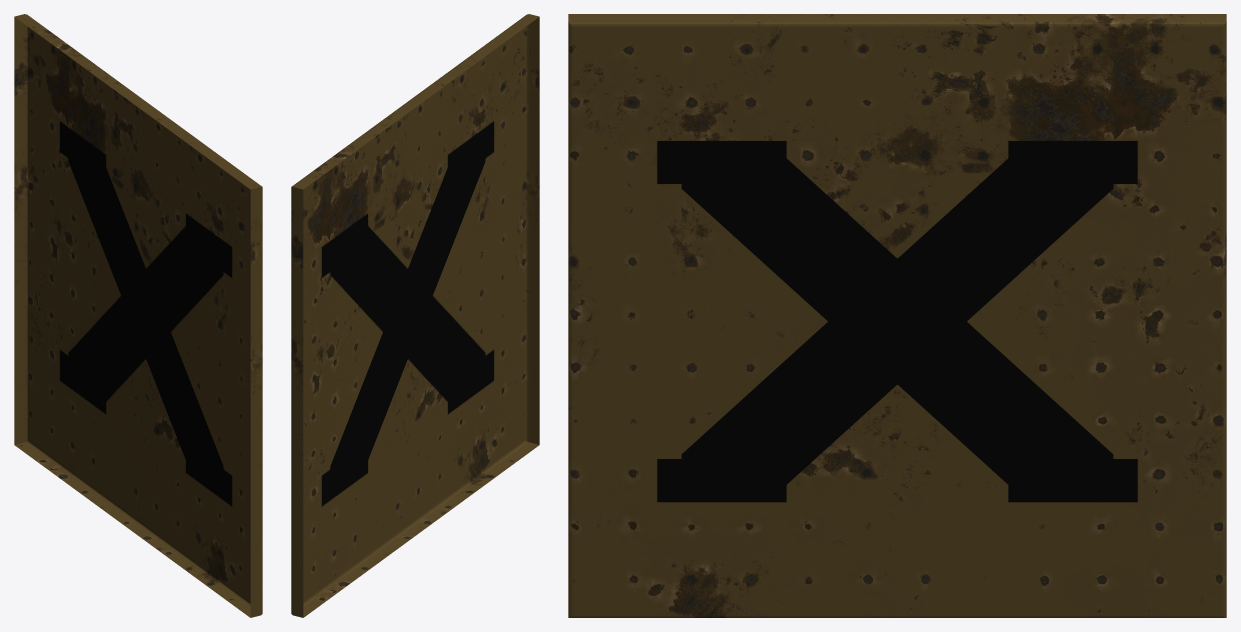
The model's file is DoorInsetPanel.fbx.
3 views of the same model, side by side, from view 1: azimuth 30°, elevation 25°; view 2: azimuth 150°, elevation 25°; view 3: azimuth 270°, elevation 25° (orthographic). The views are drawn at different scales.
Parts seen in each view (by area): view 1: DoorInsetPanel; view 2: DoorInsetPanel; view 3: DoorInsetPanel.
Part boxes in pixels (x1,y1,x2,y2): DoorInsetPanel: (14,14,262,617); DoorInsetPanel: (291,14,539,617); DoorInsetPanel: (568,14,1226,617).
Bounding box in the file's own units: 0.0449 × 1.34 × 1.34.
